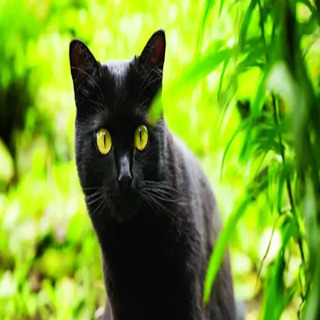gato: (46, 28, 199, 272)
